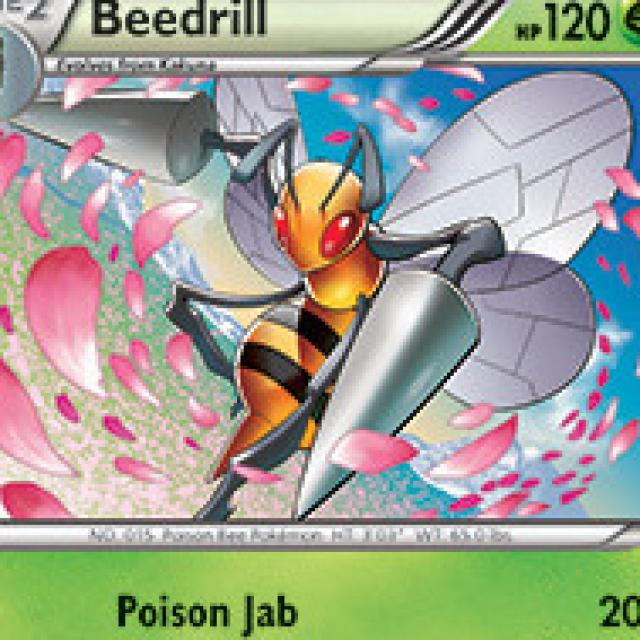Beedrill: (104, 80, 548, 522)
